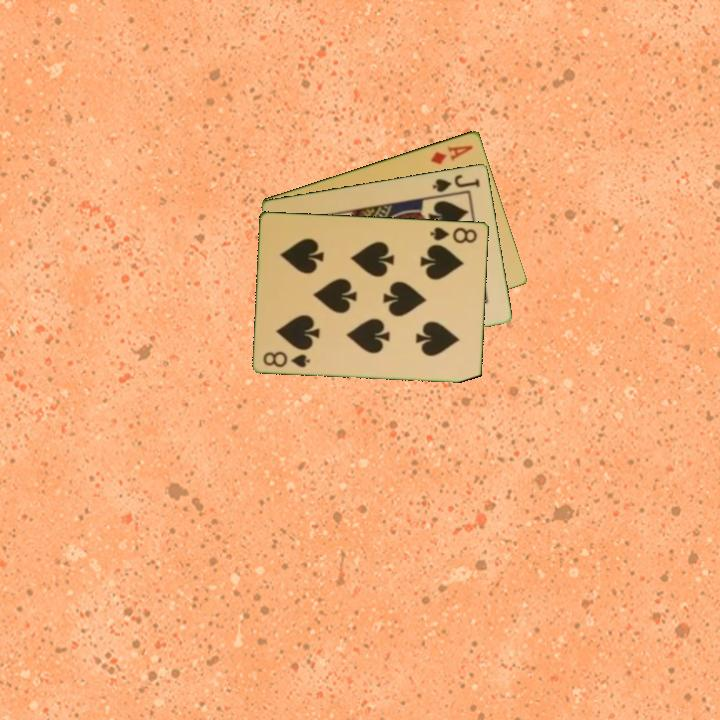8s: (427, 223, 480, 246), (260, 348, 313, 370)
Ad: (427, 141, 476, 167)
Js: (429, 171, 483, 195)
